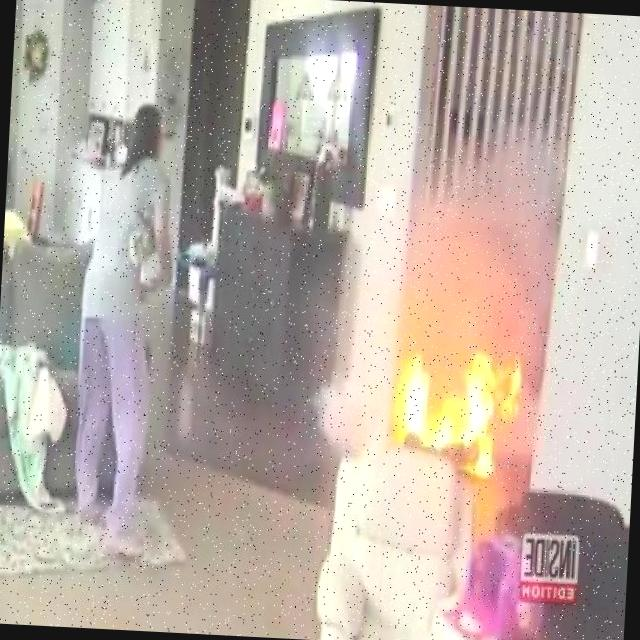fire: (381, 338, 514, 481)
smoke: (372, 176, 558, 330)
